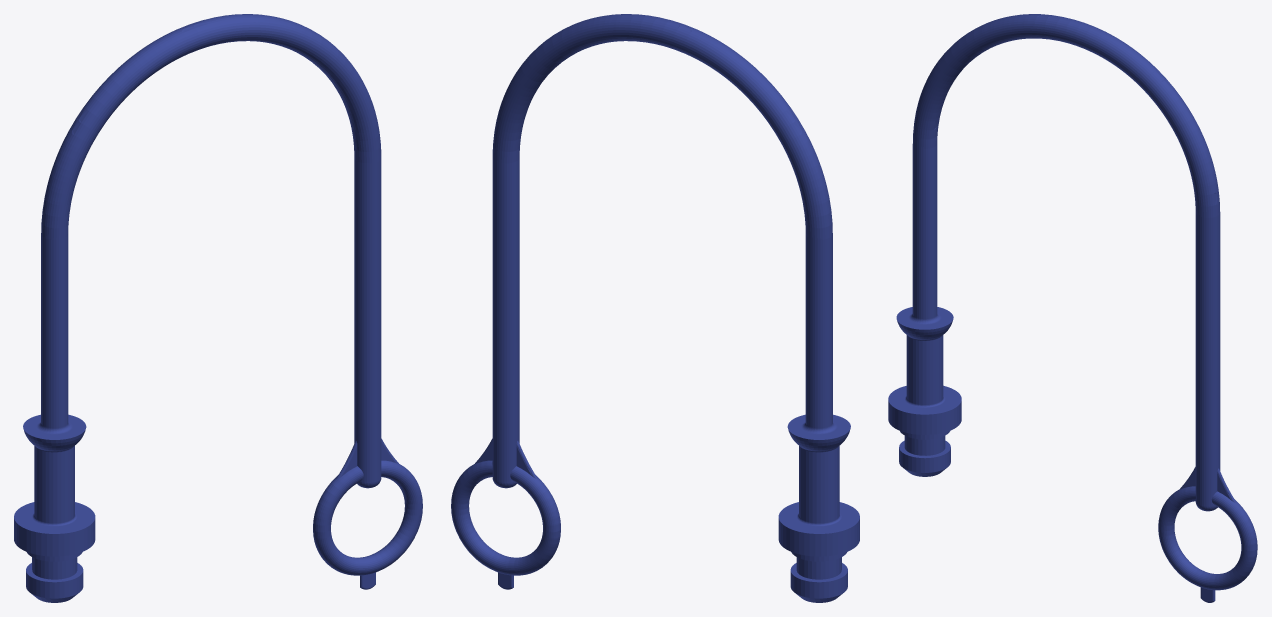
3 views of the same model, side by side, from view 1: azimuth 30°, elevation 25°; view 2: azimuth 150°, elevation 25°; view 3: azimuth 330°, elevation 25° (orthographic). The views are drawn at different scales.
Visible parts, largest first — view 1: 10293959; view 2: 10293959; view 3: 10293959.
Boxes of the visible parts, bbox=[...] form: 10293959: bbox=[14, 14, 422, 602]; 10293959: bbox=[451, 14, 859, 602]; 10293959: bbox=[888, 14, 1257, 602].
Size of the model in its own units: 0.6929 by 1 by 0.1214.
